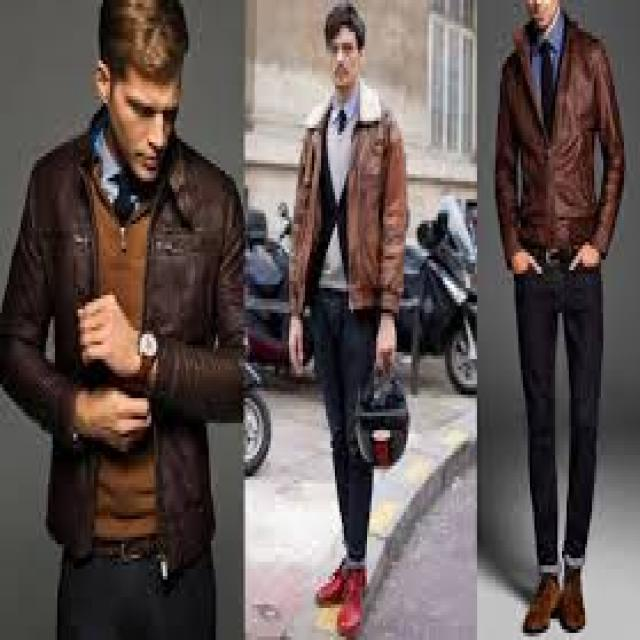Jacket: (0, 129, 248, 572), (276, 100, 422, 358), (491, 22, 631, 283)
